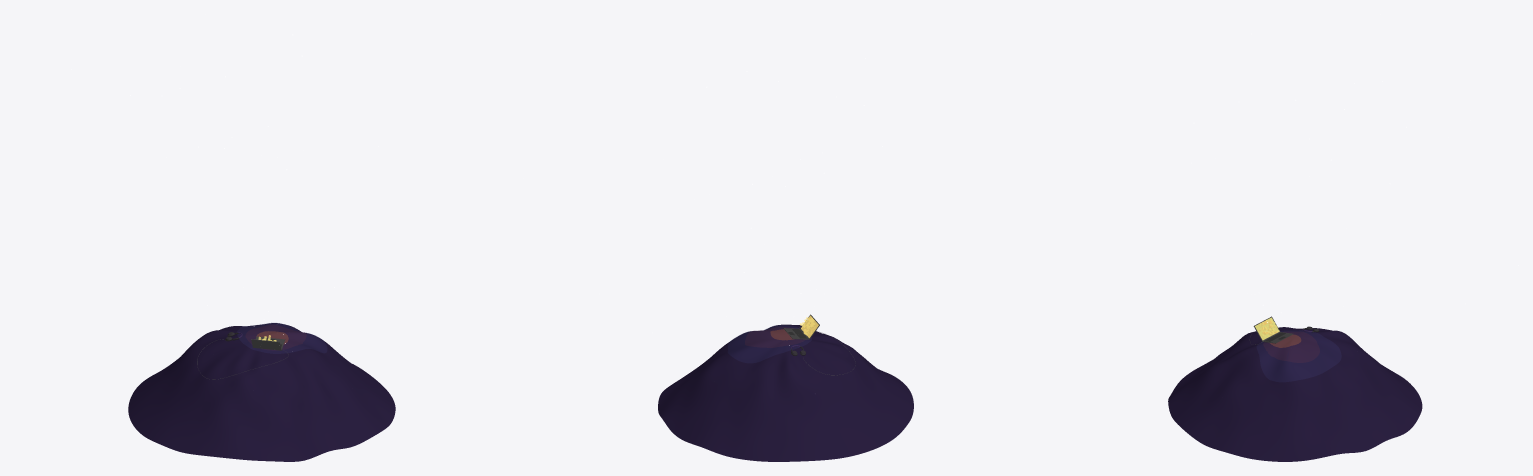
File: holo.50475bd8.gltf
3 renders of one model, left to right at view 1: azimuth 30°, elevation 25°; view 2: azimuth 150°, elevation 25°; view 3: azimuth 270°, elevation 25°, orthographic. The views are drawn at different scales.
Parts seen in each view (by area): view 1: Sphere.002, Plane.001; view 2: Sphere.002, Plane.001; view 3: Sphere.002, Plane.001, Plane.
Part boxes in pixels (left/top/right/bottom): Sphere.002: left=128, top=323, right=395, bottom=461; Plane.001: left=237, top=323, right=326, bottom=353; Sphere.002: left=658, top=324, right=913, bottom=461; Plane.001: left=728, top=325, right=811, bottom=362; Sphere.002: left=1168, top=327, right=1422, bottom=461; Plane.001: left=1257, top=330, right=1341, bottom=381; Plane: left=1253, top=316, right=1293, bottom=343.
Size of what is drawn, in the model's own units: 18.7 by 15.25 by 18.93.
